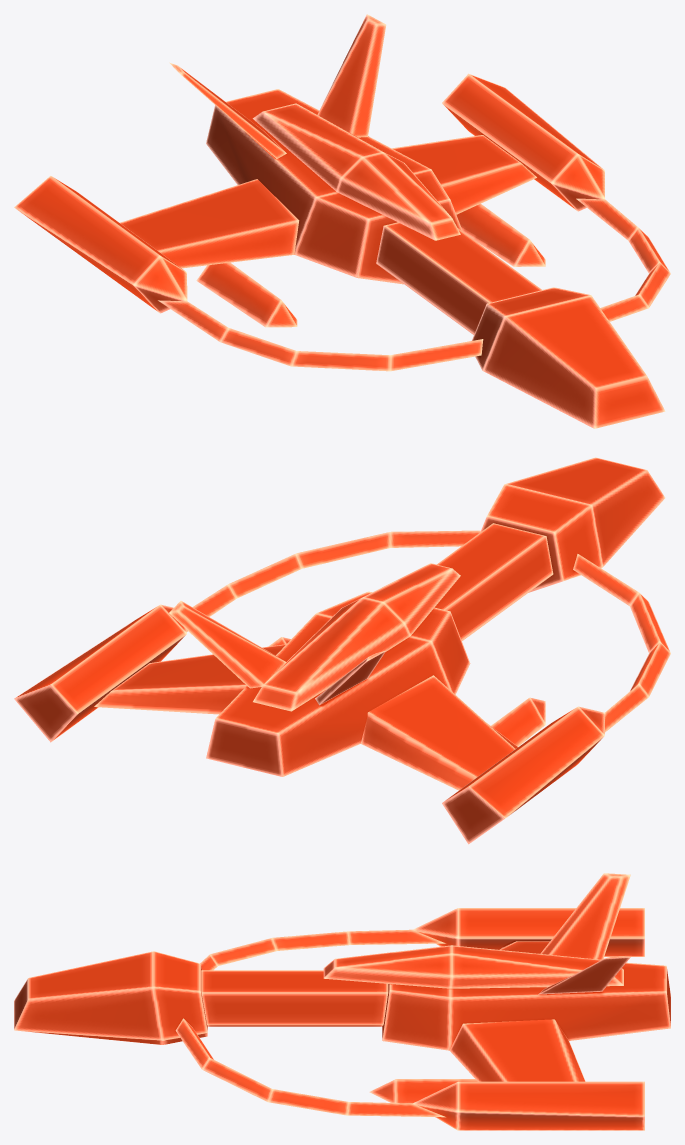
The model's file is enemy_scout.FBX.
The picture shows the model from 3 angles, top to bottom: view 1: azimuth 30°, elevation 25°; view 2: azimuth 150°, elevation 25°; view 3: azimuth 270°, elevation 25°; orthographic projection. The views are drawn at different scales.
Visible parts, largest first — view 1: Scout_enemy; view 2: Scout_enemy; view 3: Scout_enemy.
Part boxes in pixels (x1,y1,x2,y2): Scout_enemy: (14,14,670,428); Scout_enemy: (14,457,670,844); Scout_enemy: (14,873,670,1130).
Size of the model in its own units: 28.57 by 8.58 by 38.84.
